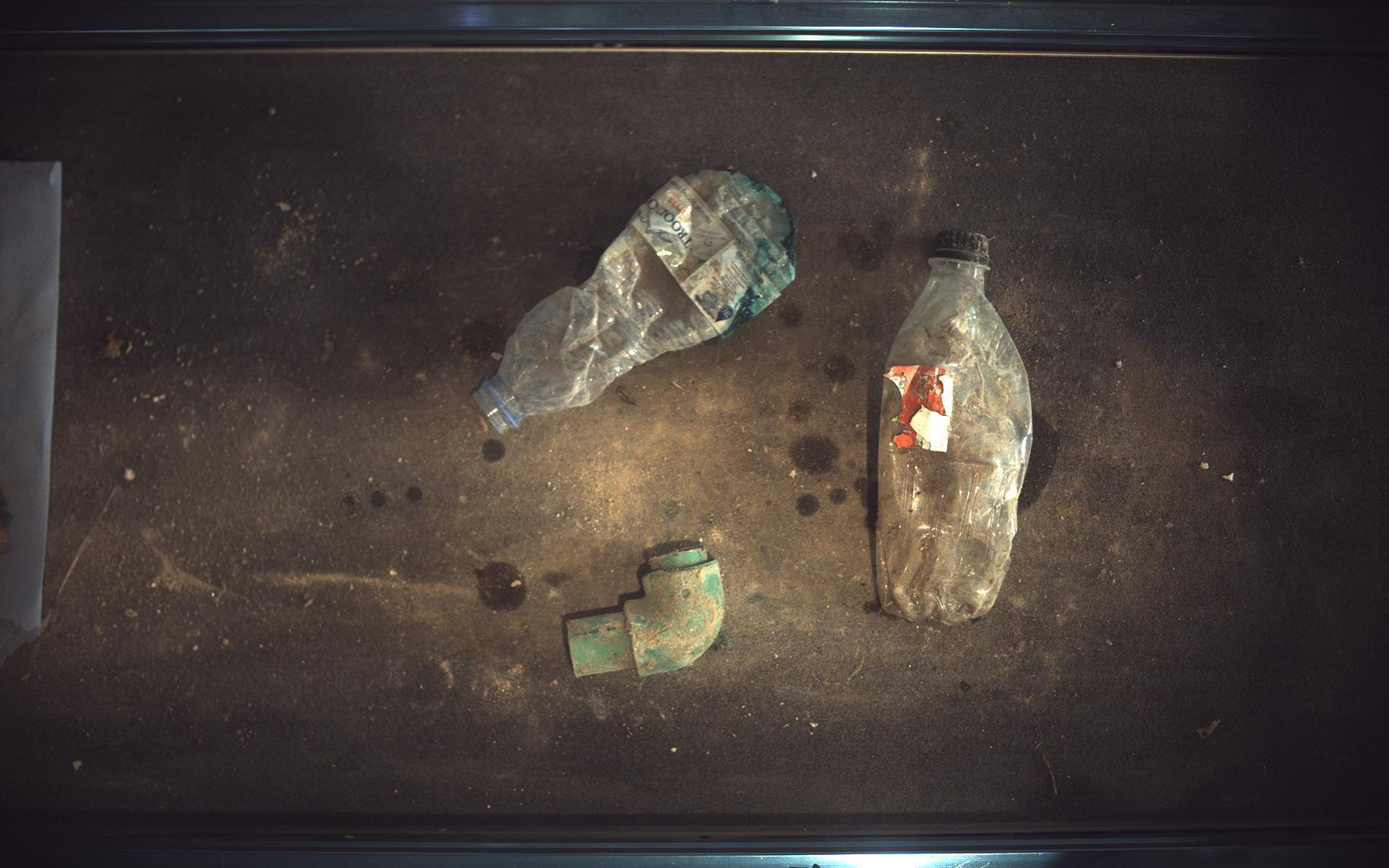general_w: (474, 169, 797, 433), (878, 229, 1035, 624)
pipes: (566, 543, 726, 678)
